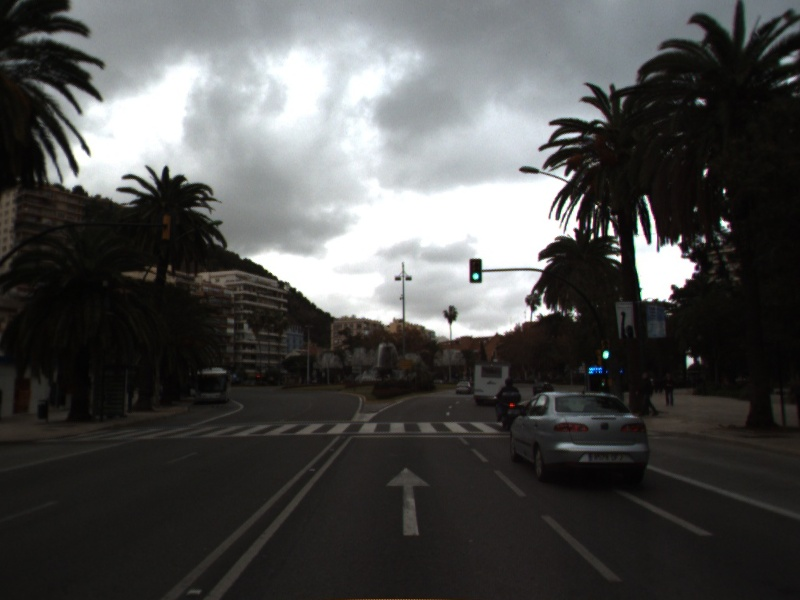STRAIGHT: (383, 466, 432, 538)
